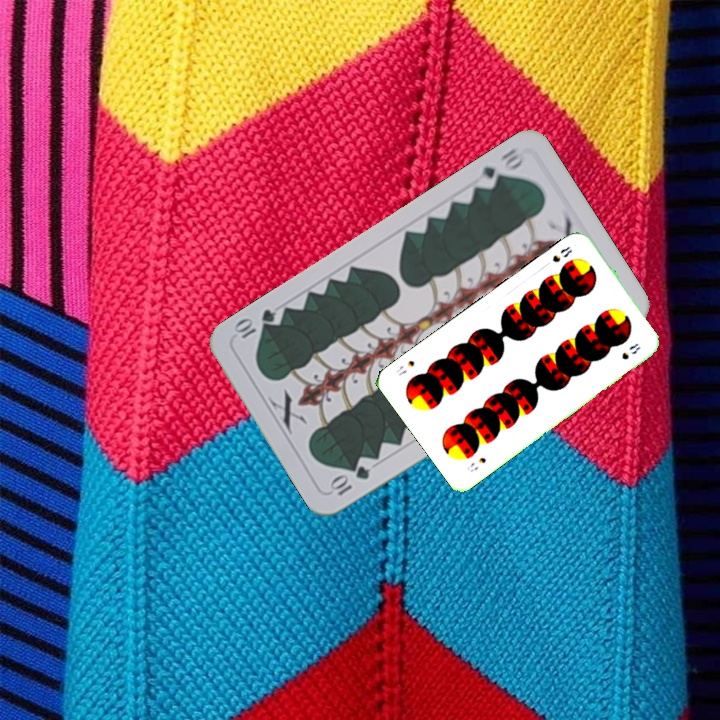G10: (472, 144, 527, 193), (326, 461, 373, 499)
S8: (548, 242, 575, 265), (463, 453, 488, 475)
